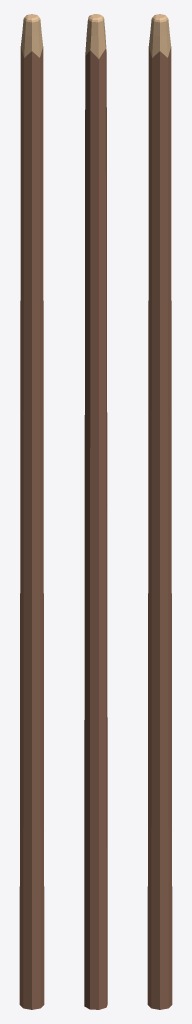
Rendered from Spear.Handle.fbx.
3 views of the same model, side by side, from view 1: azimuth 90°, elevation 25°; view 2: azimuth 150°, elevation 25°; view 3: azimuth 270°, elevation 25° (orthographic).
Parts seen in each view (by area): view 1: Spear.Handle; view 2: Spear.Handle; view 3: Spear.Handle.
Boxes of the visible parts, box(x1,y1,x2,y2) form: Spear.Handle: box(19, 14, 44, 1009); Spear.Handle: box(84, 14, 107, 1009); Spear.Handle: box(147, 14, 172, 1009).
Size of the model in its own units: 0.0381 by 0.0381 by 1.69.
